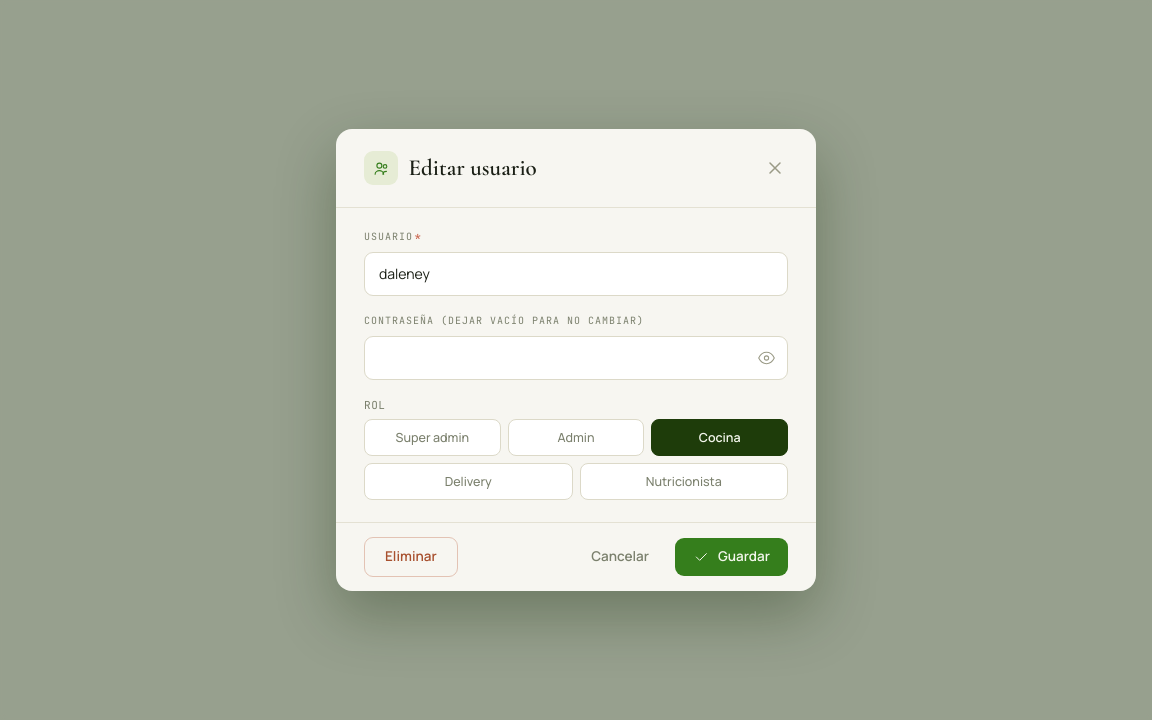
Test: UserModal — edit mode › shows a confirmation dialog after clicking Eliminar
Click the button "Eliminar".
click(411, 557)  # box [364,537,458,577]
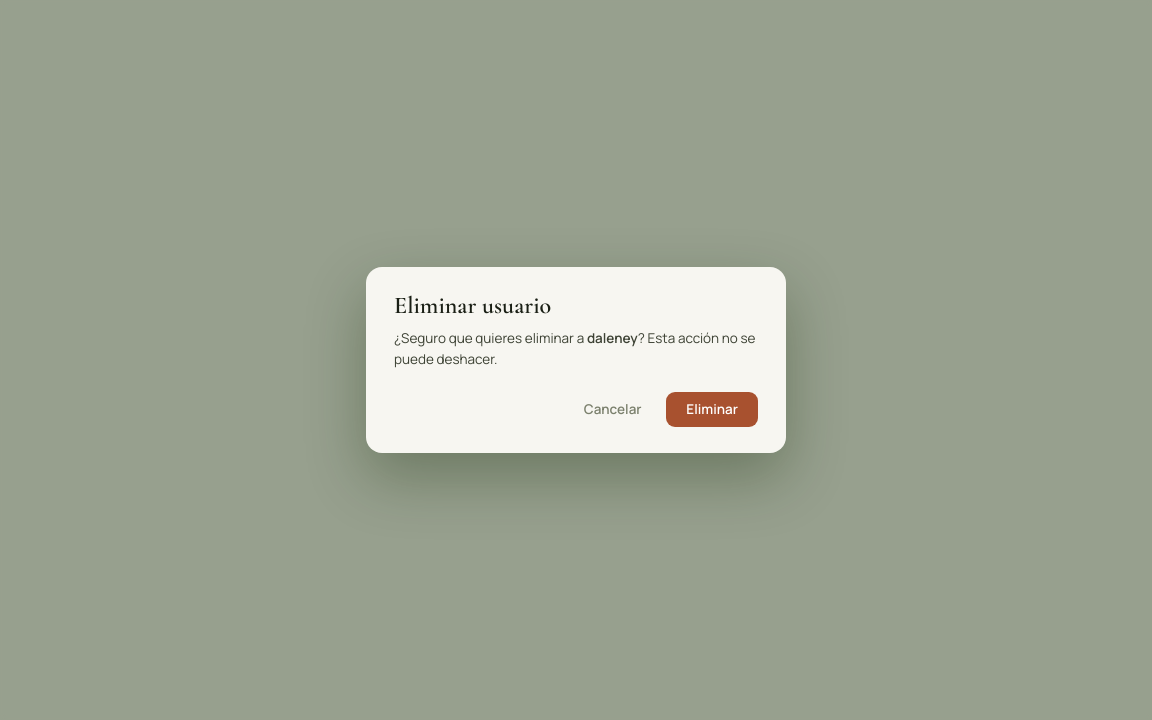
Now the text "Eliminar usuario" is shown, box [394,291,551,320]
Now the text "no se puede deshacer" is shown, box [394,329,756,368]
Now the text "¿Seguro que quieres eliminar a" is shown, box [394,329,584,347]
